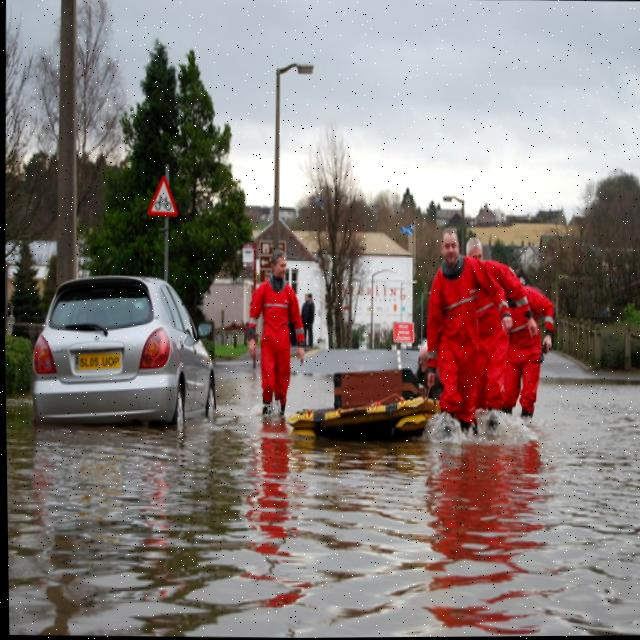civilian: (301, 284, 321, 356)
rescuer: (417, 219, 520, 456), (460, 231, 541, 426), (242, 235, 307, 432), (499, 244, 561, 430)
